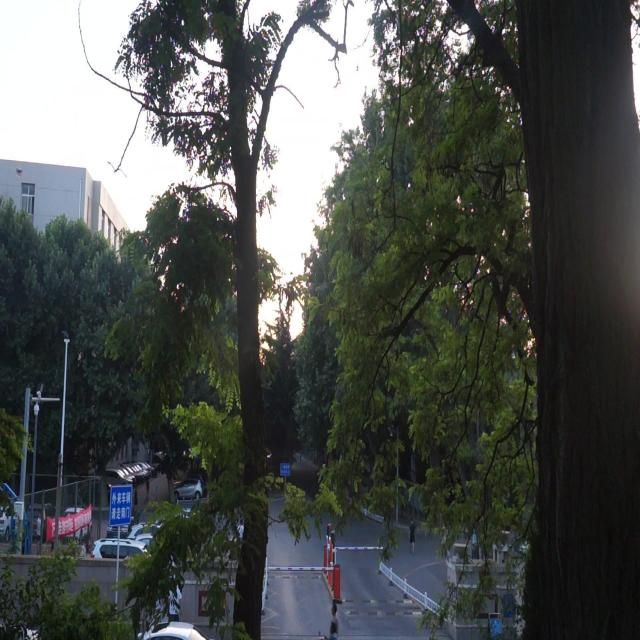drone: (12, 162, 29, 183)
